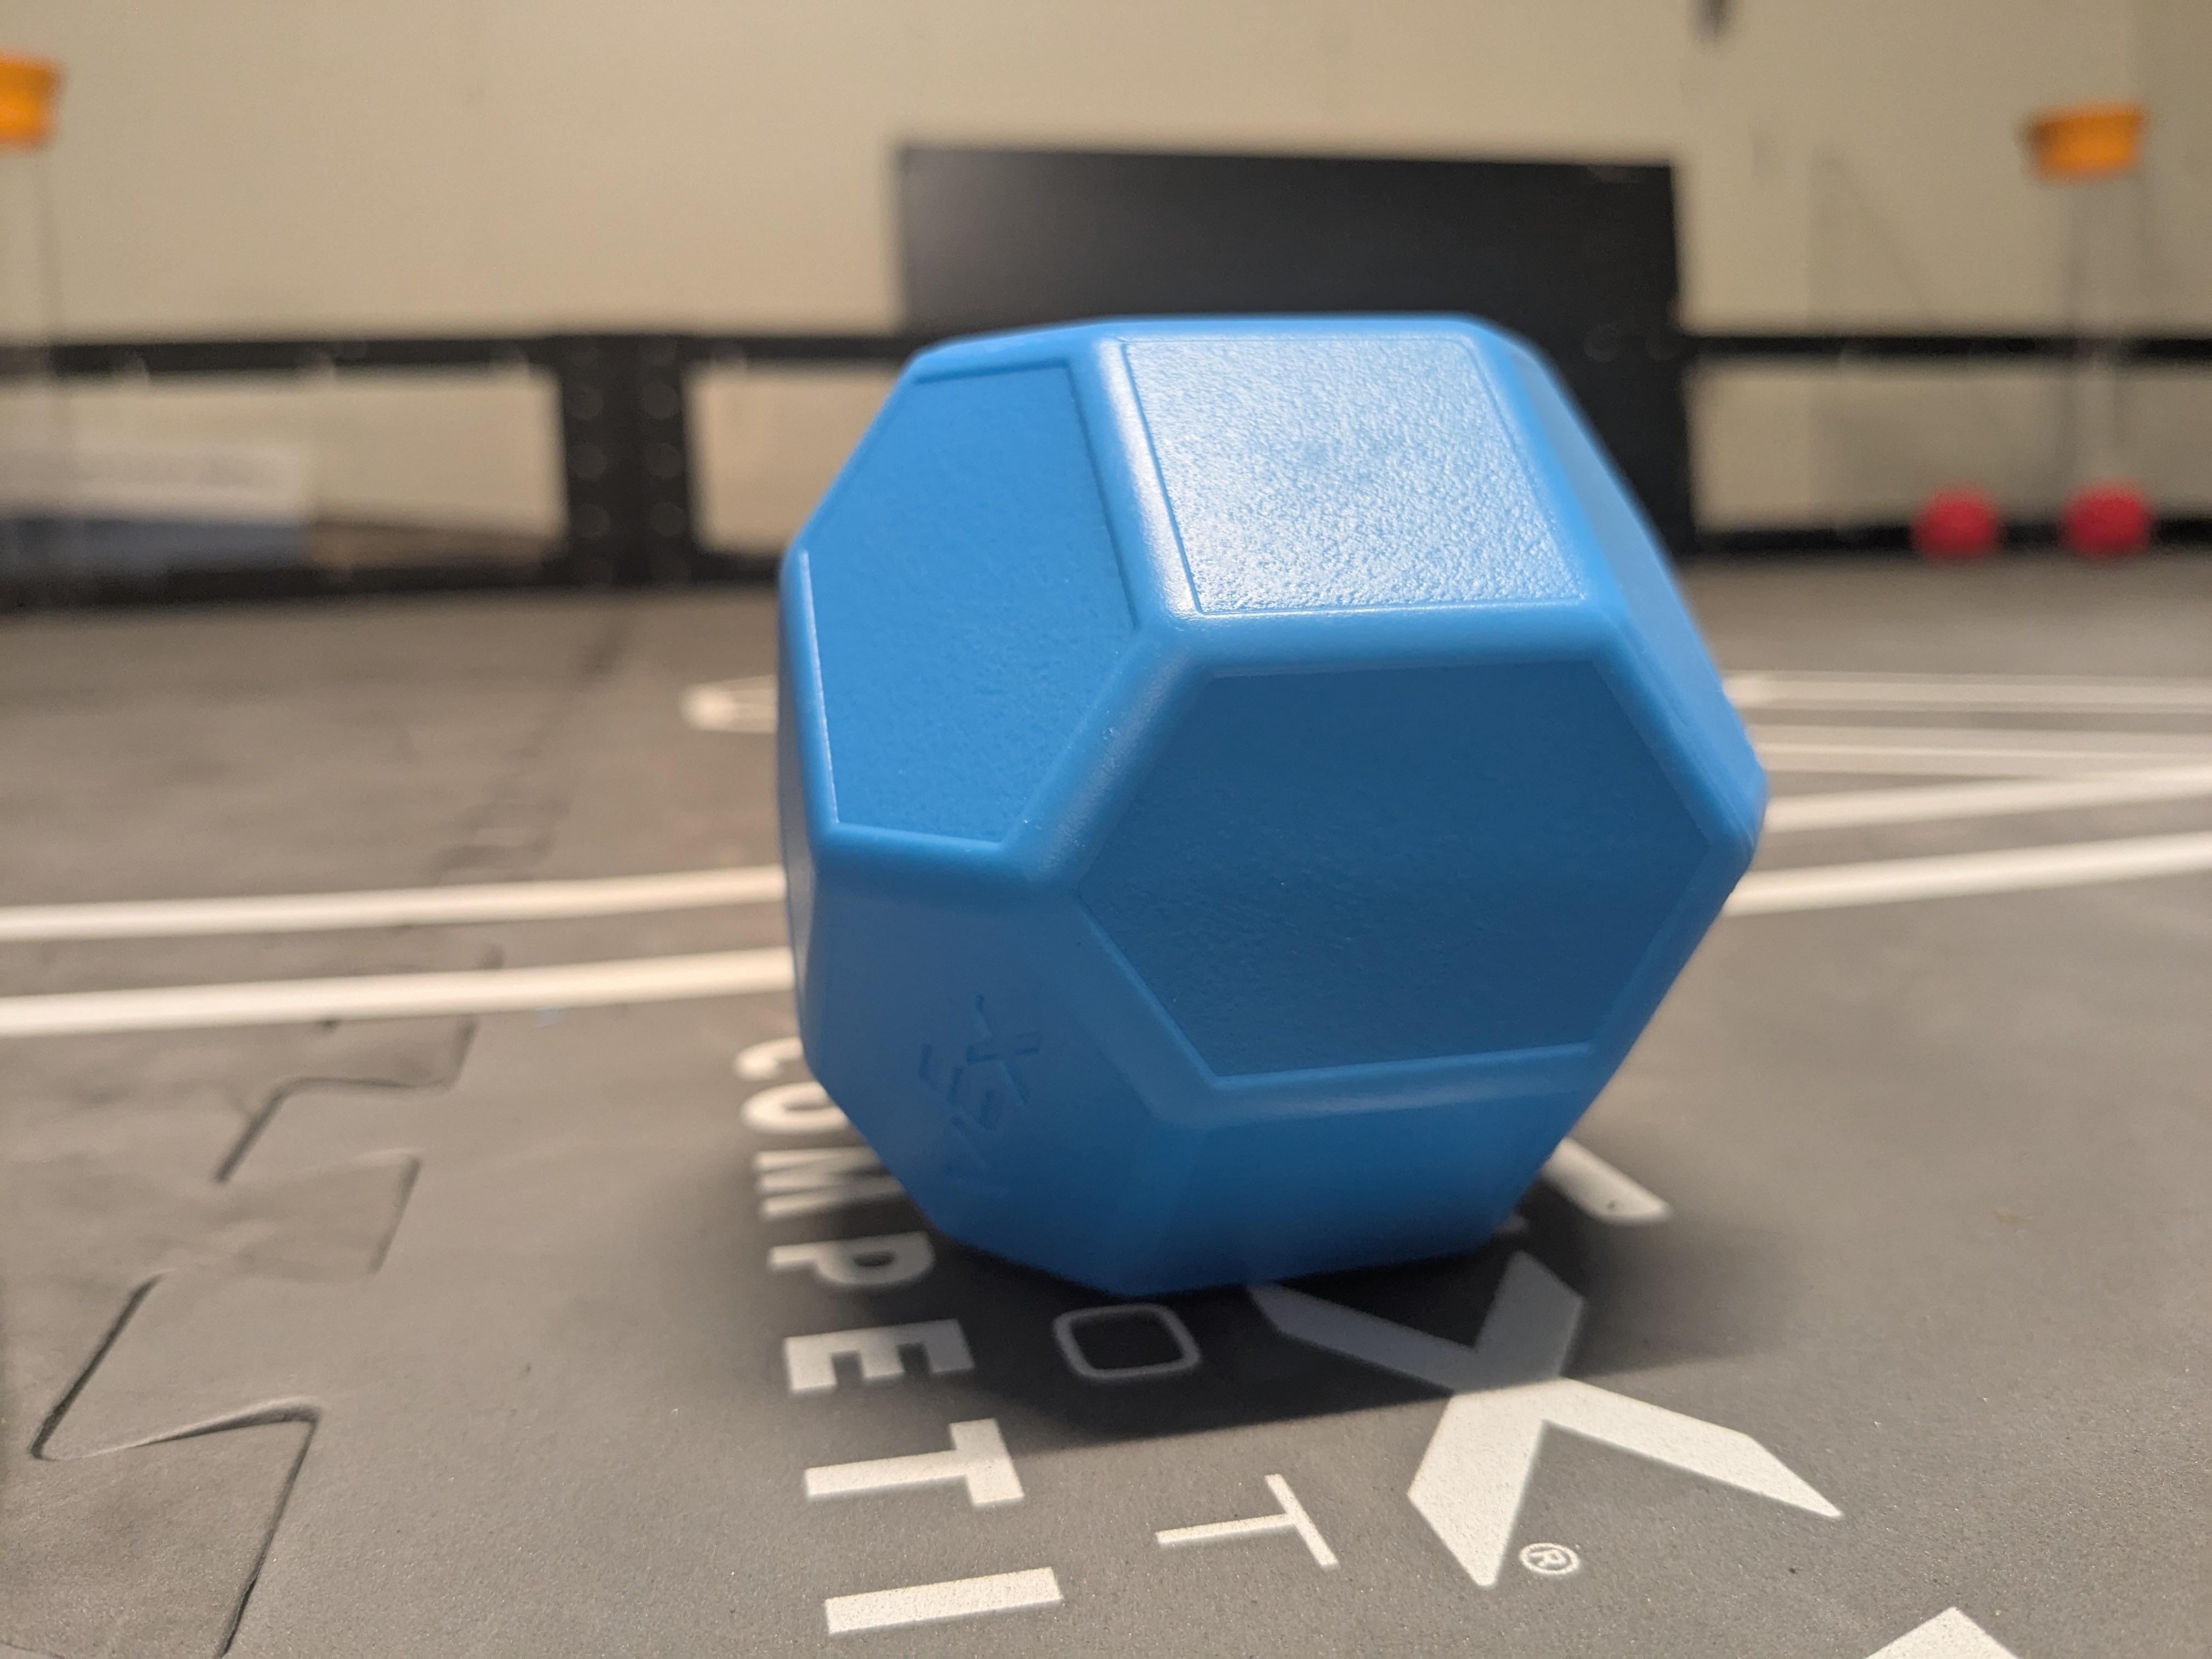Vex-Pieces-BLUE: (766, 310, 1768, 1298)
